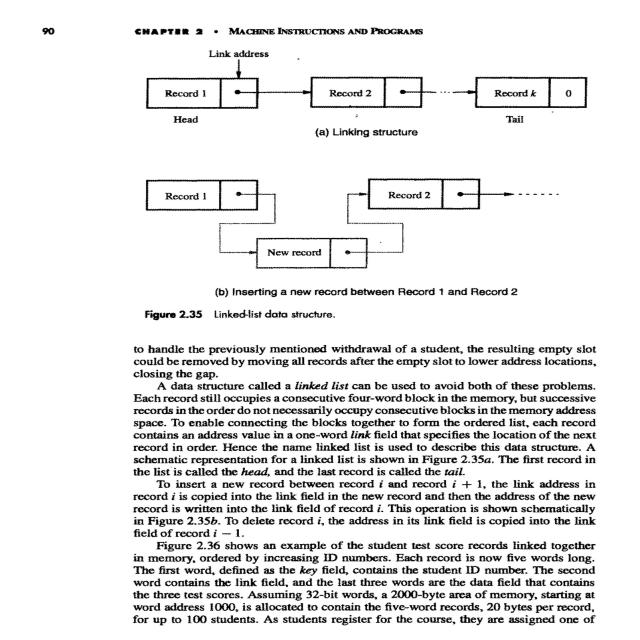diagram: (117, 44, 608, 332)
